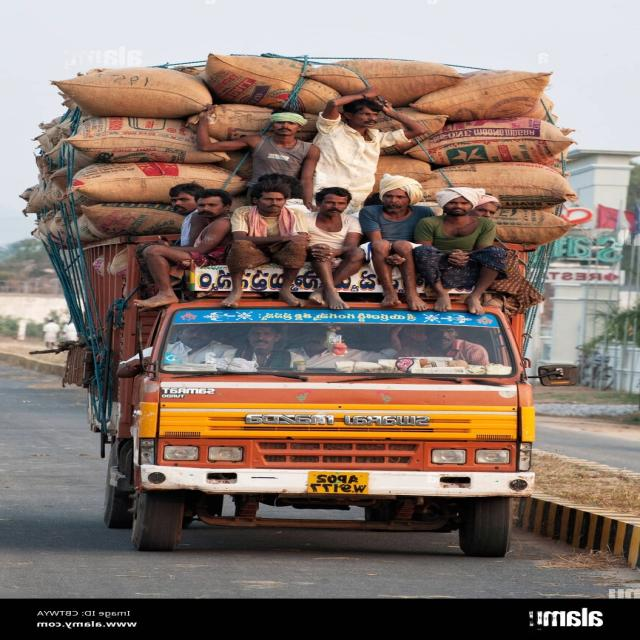truck: (21, 55, 580, 557)
